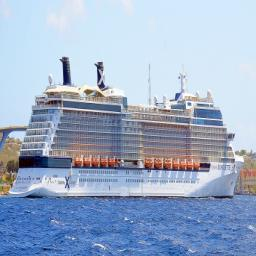cruises: (8, 55, 247, 203)
